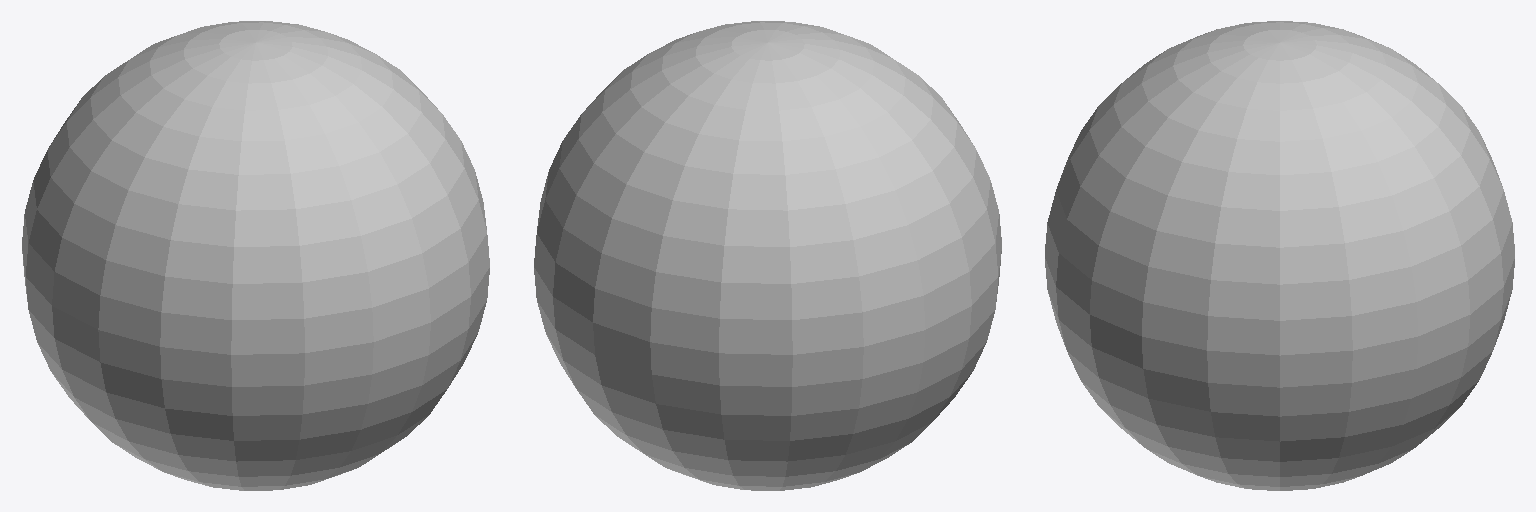
Rendered from pelotaVerde.obj.
3 renders of one model, left to right at view 1: azimuth 30°, elevation 25°; view 2: azimuth 150°, elevation 25°; view 3: azimuth 270°, elevation 25°, orthographic.
Parts seen in each view (by area): view 1: pSphere2; view 2: pSphere2; view 3: pSphere2.
Part boxes in pixels (left/top/right/bottom): pSphere2: left=22, top=21, right=489, bottom=490; pSphere2: left=534, top=21, right=1001, bottom=490; pSphere2: left=1045, top=21, right=1514, bottom=490.
Size of the model in its own units: 1.12 by 1.12 by 1.12.